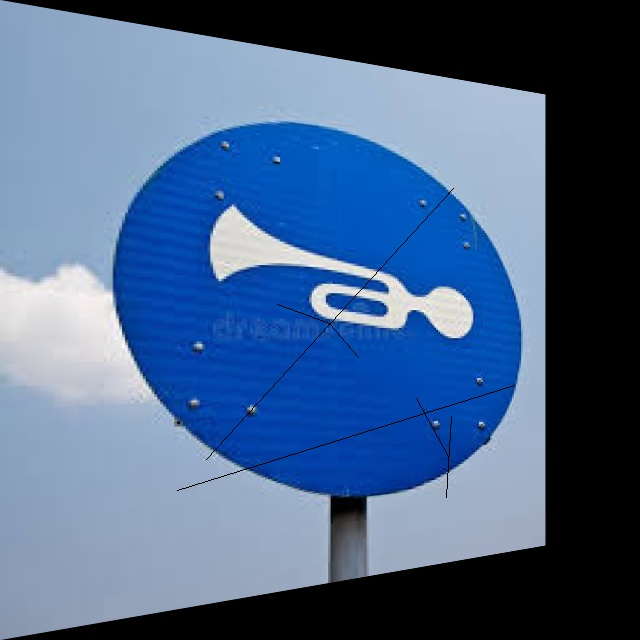Compulsory_Sound_Horn: (123, 99, 517, 514)
